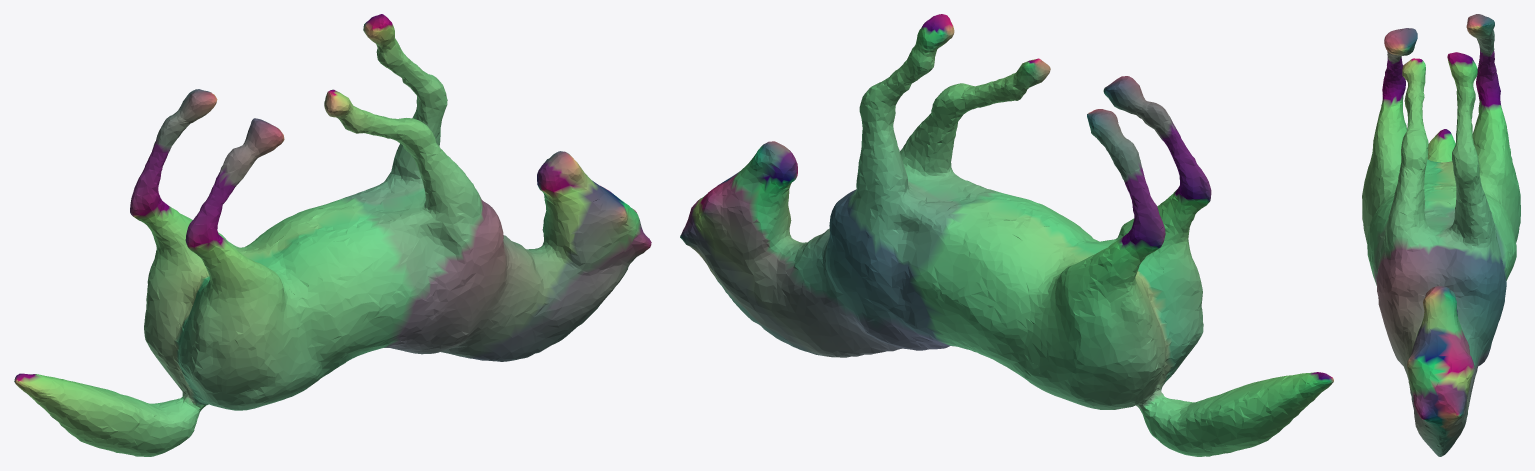
The model's file is horse-5.off.obj.
3 views of the same model, side by side, from view 1: azimuth 30°, elevation 25°; view 2: azimuth 150°, elevation 25°; view 3: azimuth 270°, elevation 25° (orthographic). The views are drawn at different scales.
Bounding box in the file's own units: 1.71 × 0.9783 × 0.4103.
